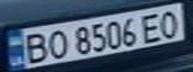0: (106, 18, 127, 50)
5: (90, 20, 109, 53)
6: (118, 15, 142, 47)
8: (72, 24, 93, 56)
B: (18, 30, 51, 64)
E: (136, 10, 169, 43)
O: (154, 7, 187, 38), (42, 27, 69, 60)
